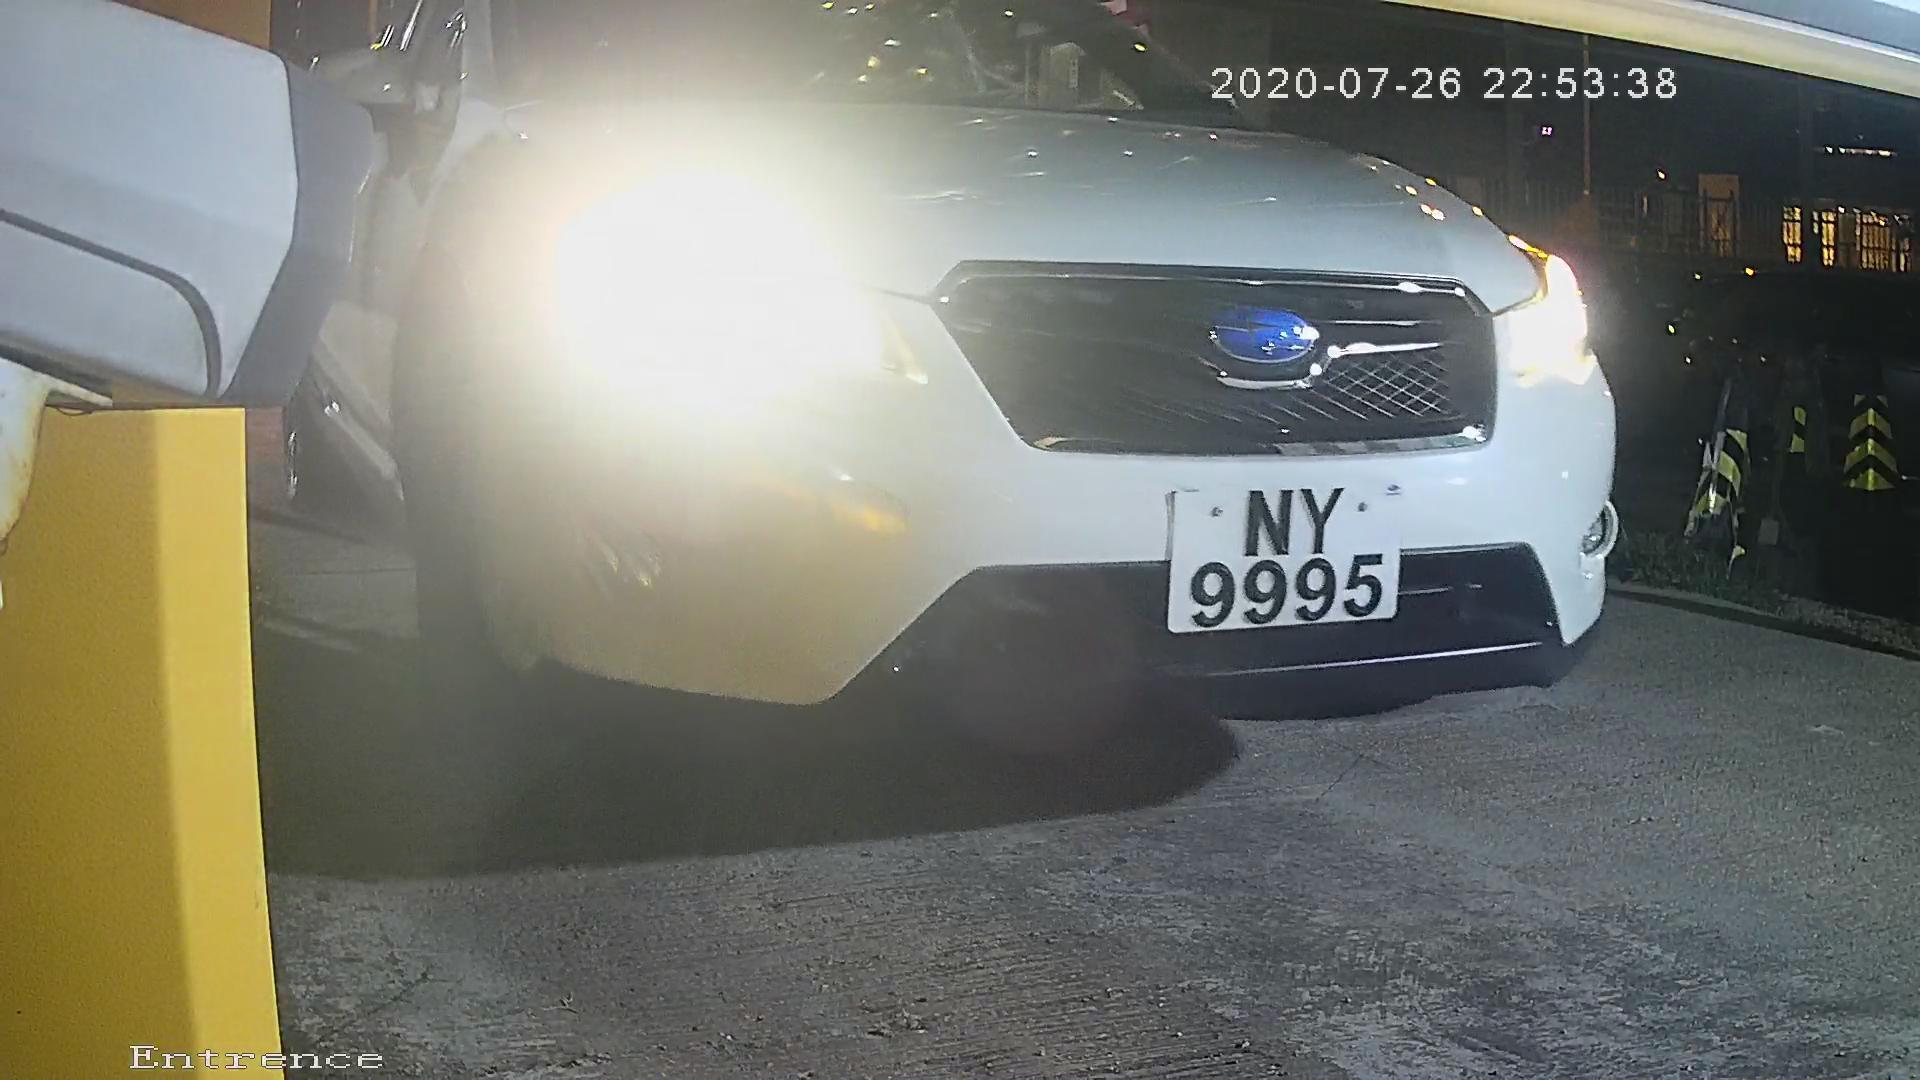Car: (78, 63, 1681, 801)
License Plate: (1141, 463, 1415, 656)
